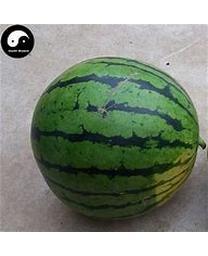watermelon: (29, 54, 200, 220)
